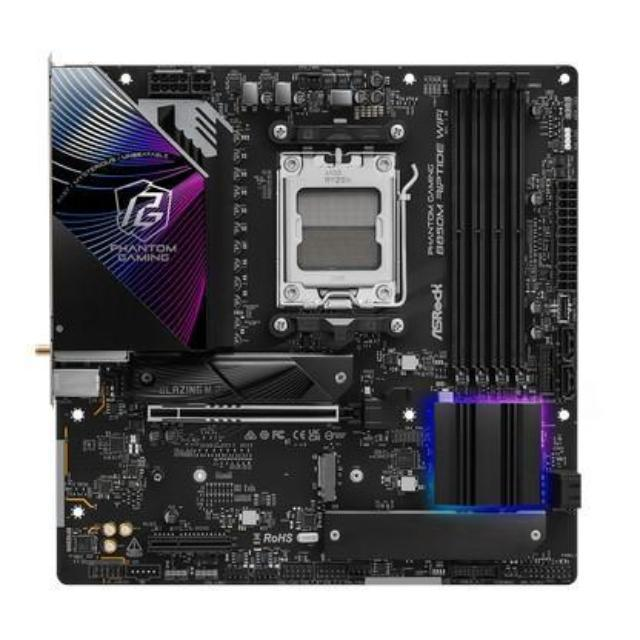Mainboard: (39, 45, 586, 600)
